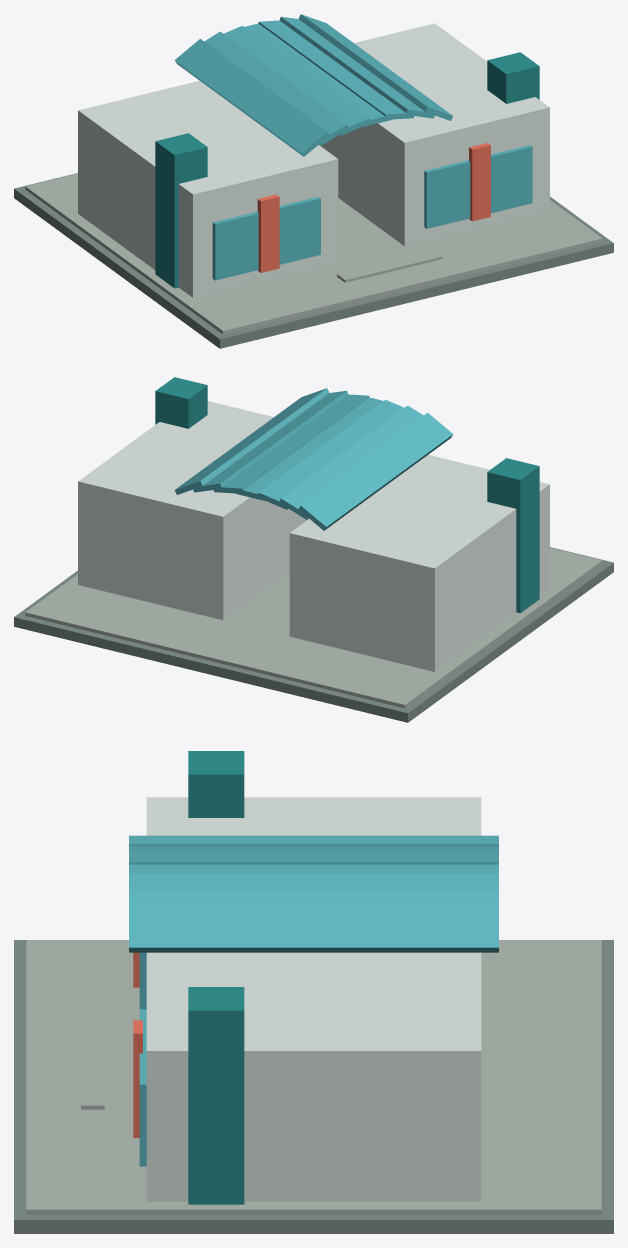
Rendered from metro_station_lv2.glb.
3 views of the same model, one above another, from view 1: azimuth 30°, elevation 25°; view 2: azimuth 150°, elevation 25°; view 3: azimuth 270°, elevation 25° (orthographic). The views are drawn at different scales.
Parts seen in each view (by area): view 1: white, glass, concrete, pavement, teal, coral; view 2: white, concrete, glass, pavement, teal; view 3: white, concrete, glass, pavement, teal, coral.
Part boxes in pixels (bbox=[...]): white: bbox=[78, 23, 549, 297]; glass: bbox=[174, 14, 532, 280]; concrete: bbox=[25, 173, 602, 334]; pavement: bbox=[14, 173, 613, 348]; teal: bbox=[155, 52, 539, 288]; coral: bbox=[257, 143, 490, 272]; white: bbox=[78, 401, 549, 671]; concrete: bbox=[25, 547, 602, 708]; glass: bbox=[174, 388, 453, 530]; pavement: bbox=[14, 547, 613, 722]; teal: bbox=[155, 377, 539, 613]; white: bbox=[146, 797, 481, 1201]; concrete: bbox=[26, 940, 601, 1214]; glass: bbox=[129, 835, 498, 1166]; pavement: bbox=[14, 940, 613, 1233]; teal: bbox=[188, 751, 244, 1204]; coral: bbox=[133, 952, 142, 1137].
Size of the model in its own units: 9.5 by 3.58 by 8.6.
